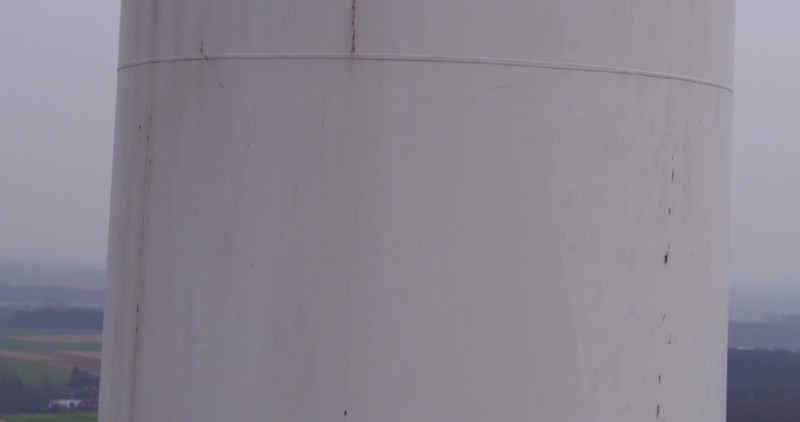weldseam: (109, 48, 738, 102)
